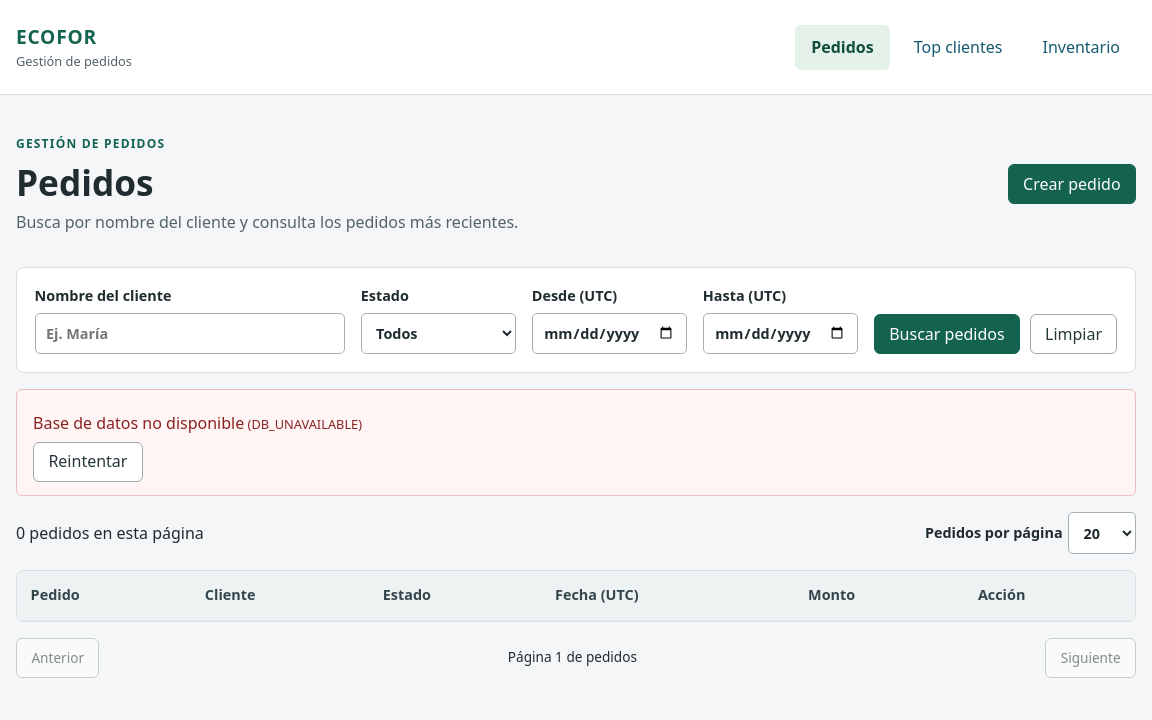
Scenario: Listado y navegación › muestra errores HTTP, permite reintentar y distingue resultados vacíos
Expected: the message "Base de datos no disponible (DB_UNAVAILABLE) Reintentar" is shown, [16,389,1136,496]
Expected: the button "Siguiente" is disabled, [1045,638,1136,678]
Click the button "Reintentar" at (88, 462), box [33,442,143,482]
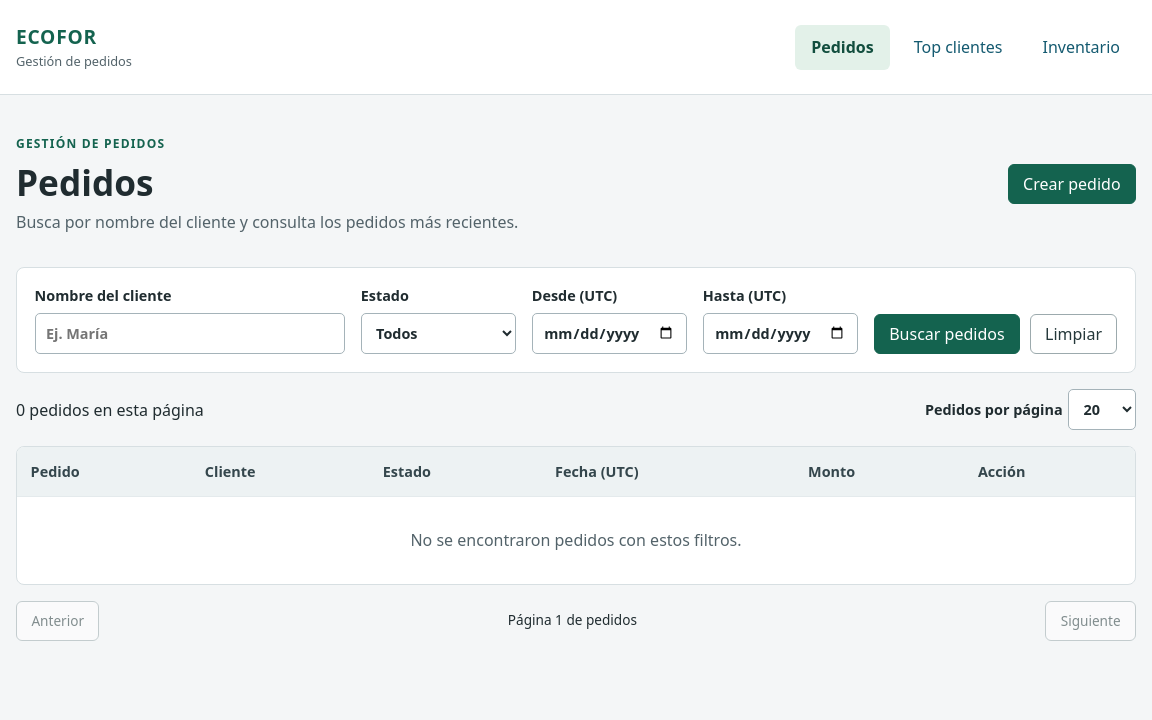
Now the text "No se encontraron pedidos con estos filtros." is shown, box [410,529,742,551]
Now the message "Base de datos no disponible(DB_UNAVAILABLE) Reintentar" is gone
